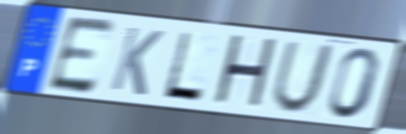0: (327, 46, 383, 121)
E: (44, 14, 119, 97)
H: (209, 32, 280, 114)
K: (107, 24, 166, 99)
L: (160, 29, 206, 105)
U: (269, 39, 338, 116)
